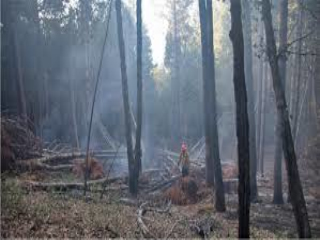smoke: (105, 131, 162, 188)
